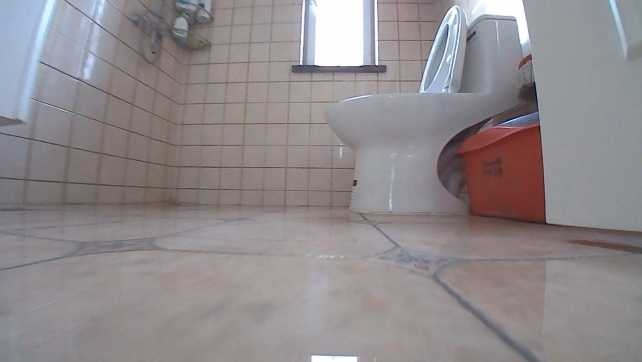toilet: (324, 2, 527, 215)
